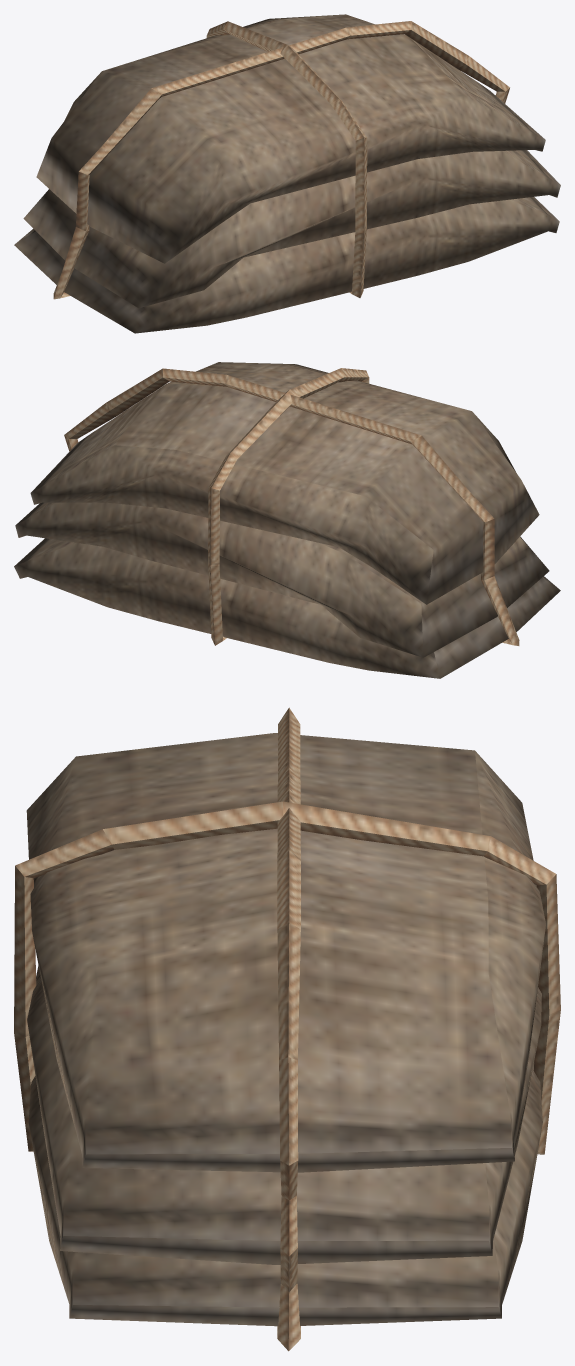
Rendered from stack_of_dirt_bags.fbx.
3 renders of one model, top to bottom at view 1: azimuth 30°, elevation 25°; view 2: azimuth 150°, elevation 25°; view 3: azimuth 270°, elevation 25°, orthographic. The views are drawn at different scales.
Visible parts, largest first — view 1: SandDirtBagStack; view 2: SandDirtBagStack; view 3: SandDirtBagStack.
Part boxes in pixels (x1,y1,x2,y2): SandDirtBagStack: (14,14,560,333); SandDirtBagStack: (14,362,560,678); SandDirtBagStack: (14,707,560,1351).
Bounding box in the file's own units: 0.6 × 0.2511 × 0.3501.
